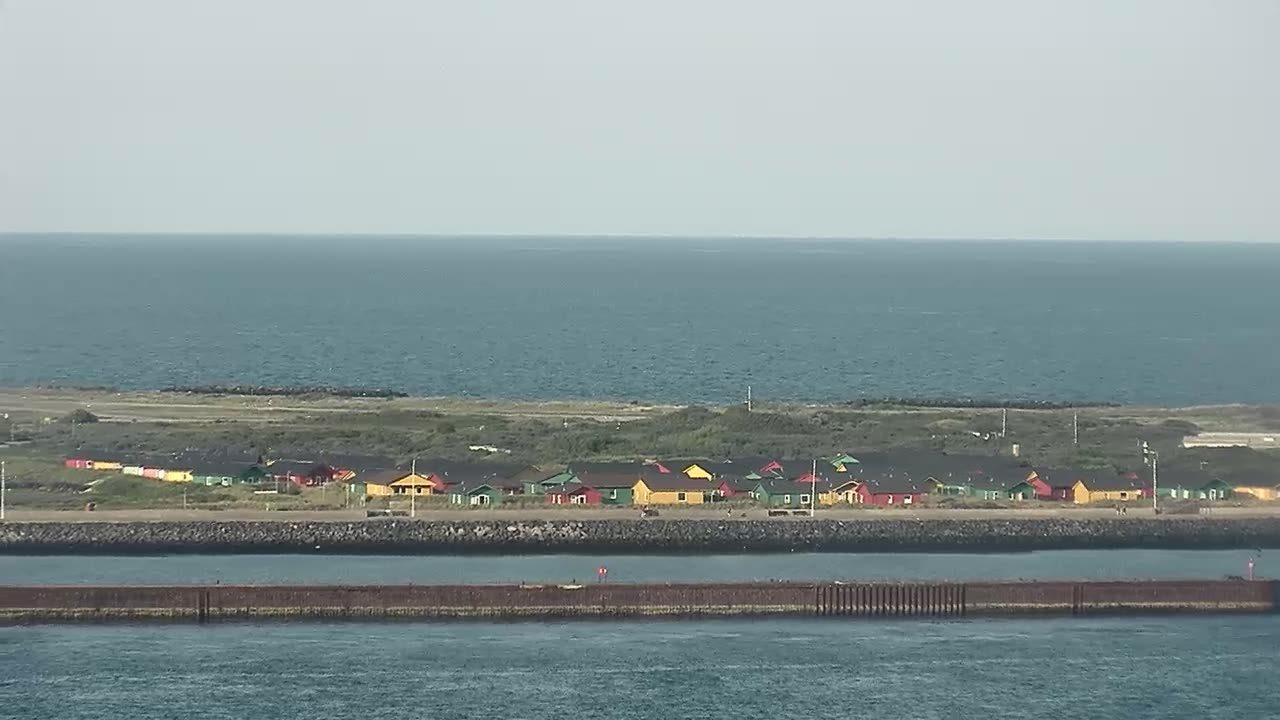human: (1114, 503, 1120, 516), (1121, 503, 1127, 515)
